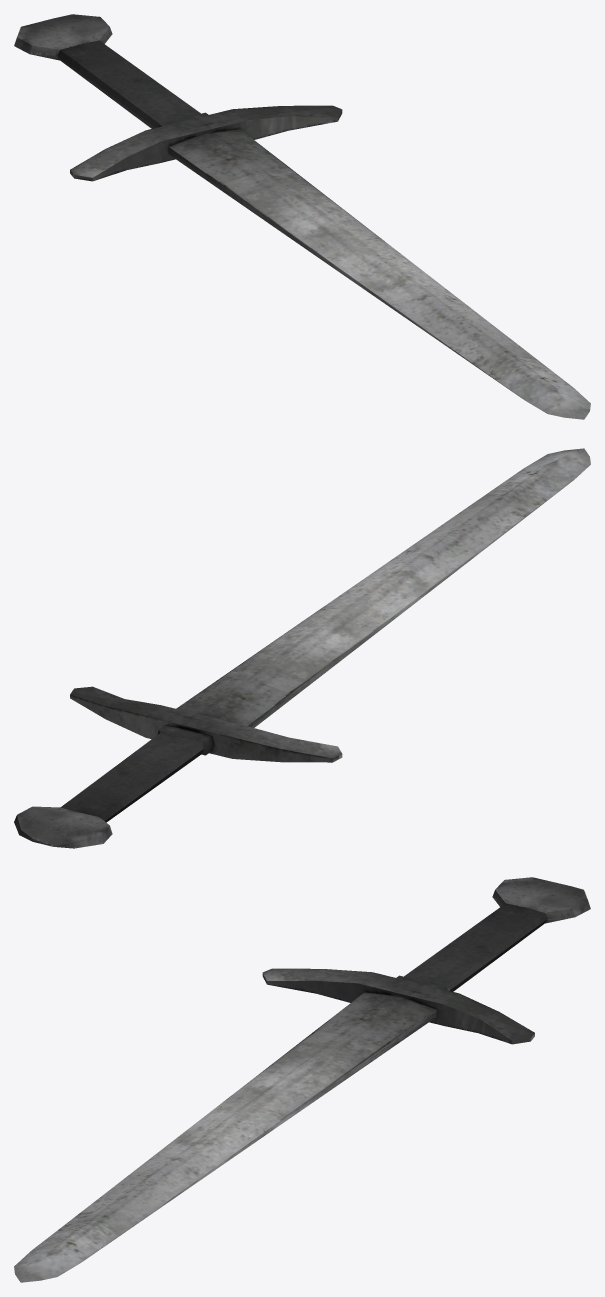
Rendered from merchant_debris_weapon003.fbx.
3 views of the same model, one above another, from view 1: azimuth 30°, elevation 25°; view 2: azimuth 150°, elevation 25°; view 3: azimuth 330°, elevation 25° (orthographic).
Parts seen in each view (by area): view 1: merchant_debris_weapon003; view 2: merchant_debris_weapon003; view 3: merchant_debris_weapon003.
Part boxes in pixels (box(x1,y1,x2,y2)): merchant_debris_weapon003: box(14, 14, 590, 419); merchant_debris_weapon003: box(14, 448, 590, 848); merchant_debris_weapon003: box(14, 877, 590, 1282).
Size of the model in its own units: 47.52 by 3.65 by 166.
